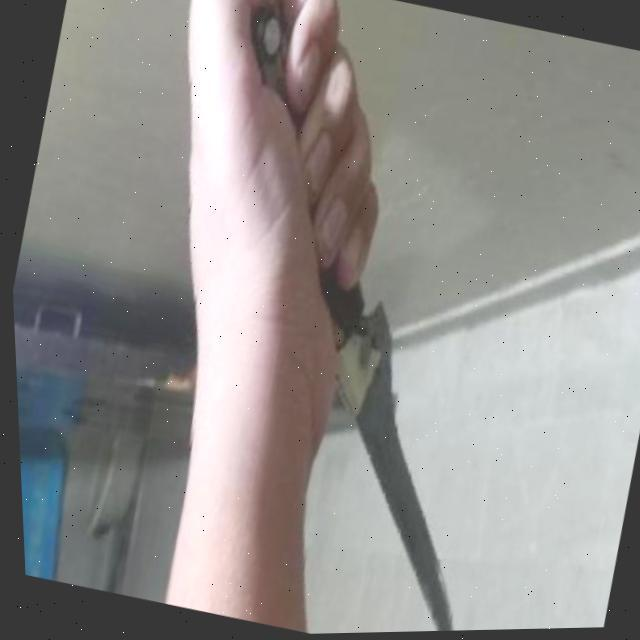knife: (118, 0, 586, 638)
